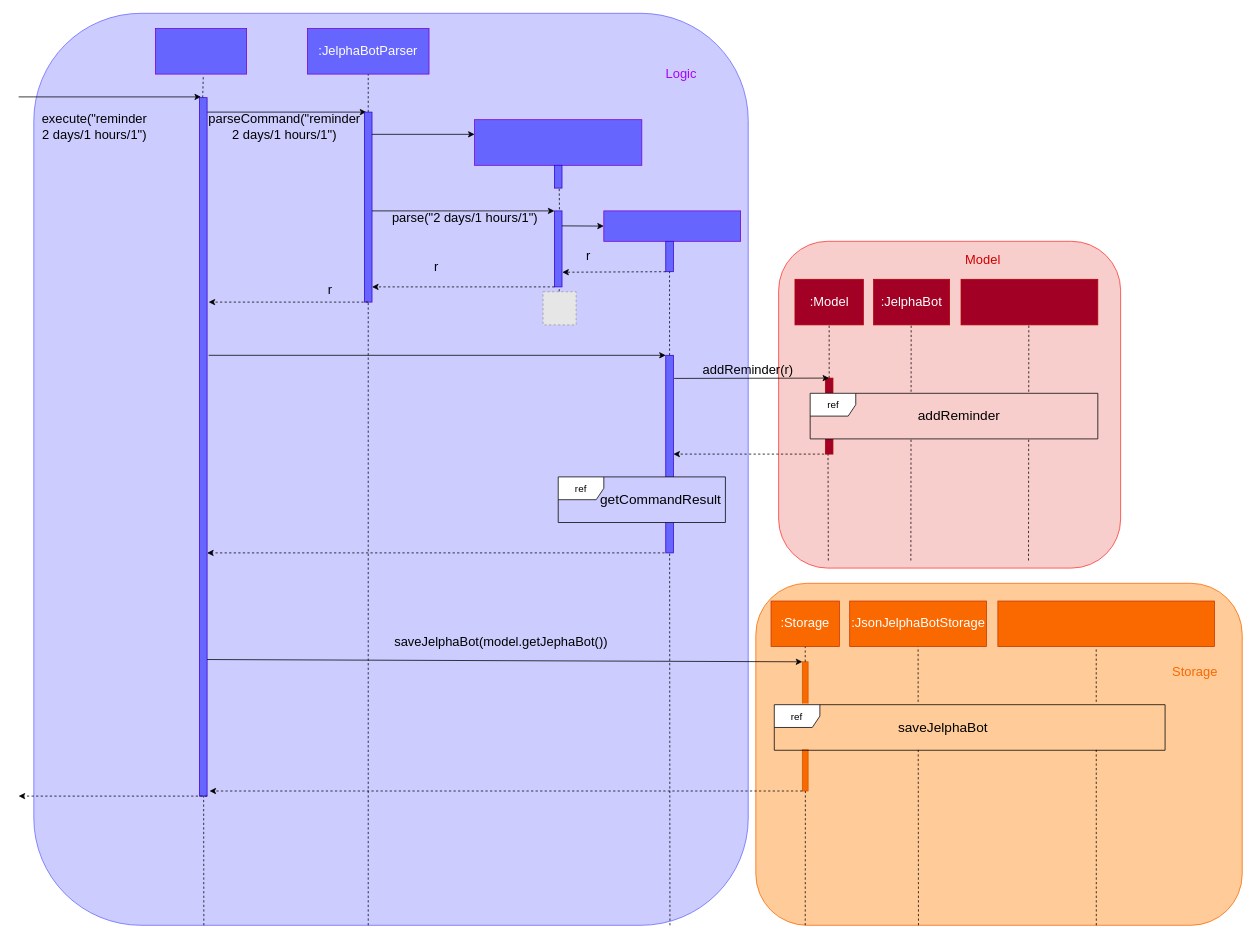
The diagram is 1256 pixels wide and 939 high, and some of its shapes have lost their labels. Grey dashed boxes stand in for pictures. The shapes that lost their labels are listed below. From the top down, each one's centre as x and y in pixels, then its label:
At point 201,51: ":LogicManager".
At point 558,142: ":ReminderCommandParser".
At point 672,225: "r :ReminderCommand".
At point 1029,302: ":UniqueReminderList".
At point 1105,623: ":JsonSerializableReminderJelphaBot".
